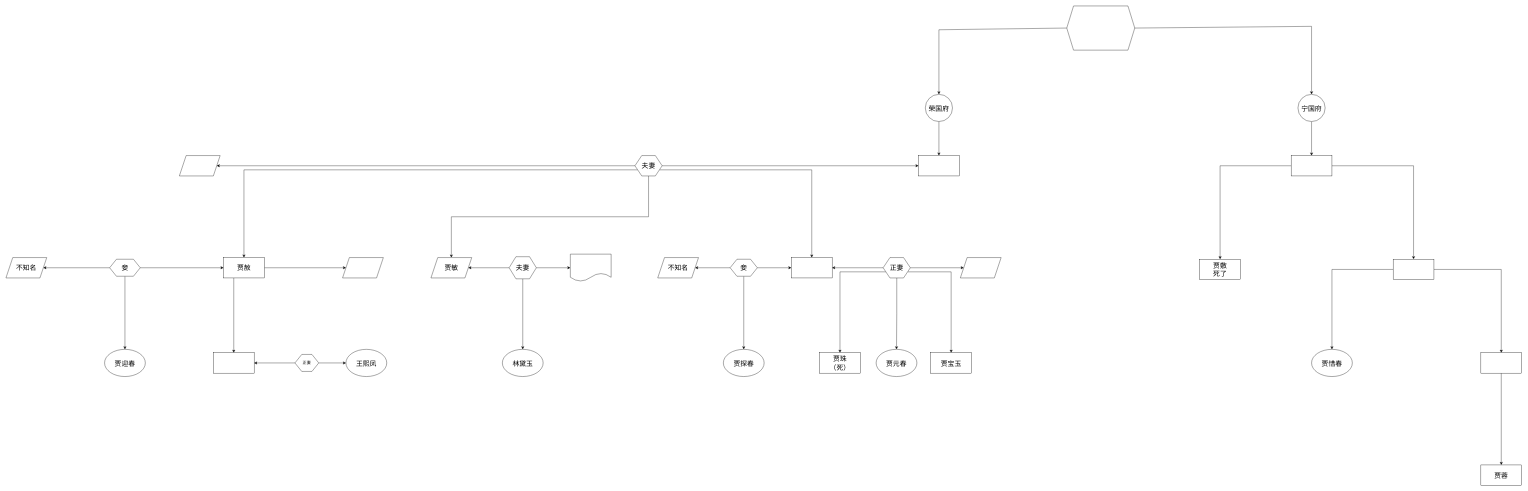
This 1528x491 diagram has some shape labels left out. The centre of each missing label's shape, as x and y in pixels:
一母同胞的两个兄弟 宁国公为长: the point at 1100,28
史家小姐 太夫人: the point at 199,165
林如海: the point at 590,267
王夫人: the point at 980,267
贾代化: the point at 1311,165
贾代善: the point at 938,165
贾政: the point at 811,267
贾敬（袭）: the point at 1413,269
贾珍: the point at 1501,362
贾琏: the point at 233,362
邢氏: the point at 362,267
